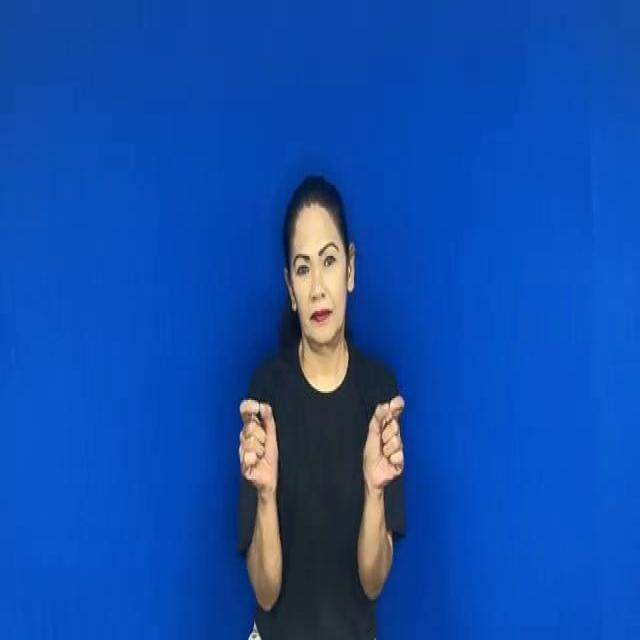crab: (233, 384, 415, 498)
